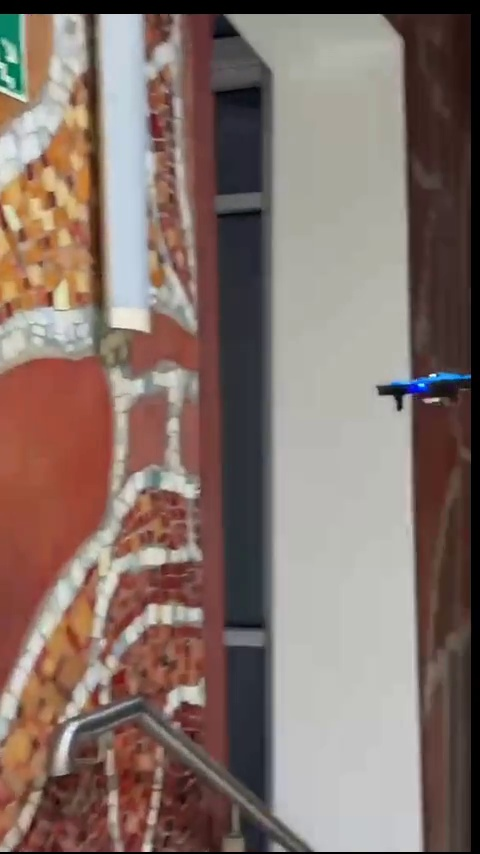drone: (376, 370, 475, 405)
